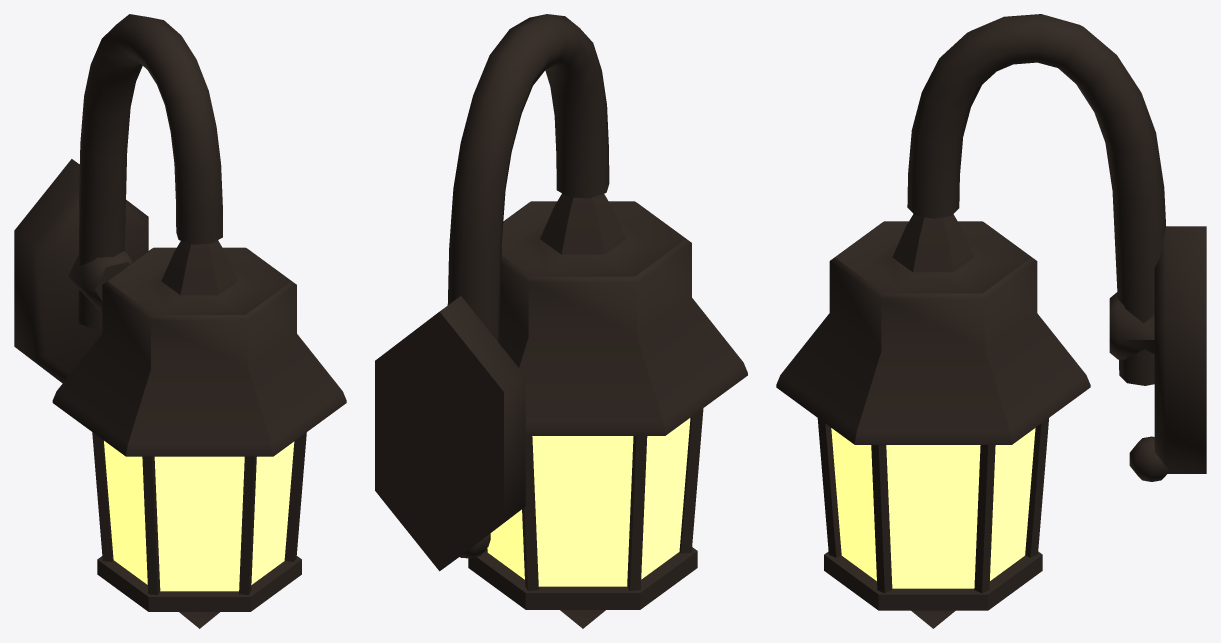
File: porch-lamp.glb
3 renders of one model, left to right at view 1: azimuth 30°, elevation 25°; view 2: azimuth 150°, elevation 25°; view 3: azimuth 270°, elevation 25°, orthographic. The views are drawn at different scales.
Visible parts, largest first — view 1: porch_iron, lantern_glass; view 2: porch_iron, lantern_glass; view 3: porch_iron, lantern_glass.
Boxes of the visible parts, x1=… form: porch_iron: x1=14, y1=14, x2=346, y2=628; lantern_glass: x1=104, y1=441, x2=294, y2=591; porch_iron: x1=375, y1=14, x2=747, y2=628; lantern_glass: x1=487, y1=418, x2=690, y2=586; porch_iron: x1=776, y1=14, x2=1206, y2=628; lantern_glass: x1=831, y1=428, x2=1035, y2=588.
Size of the model in its own units: 0.1992 by 0.4958 by 0.315.
